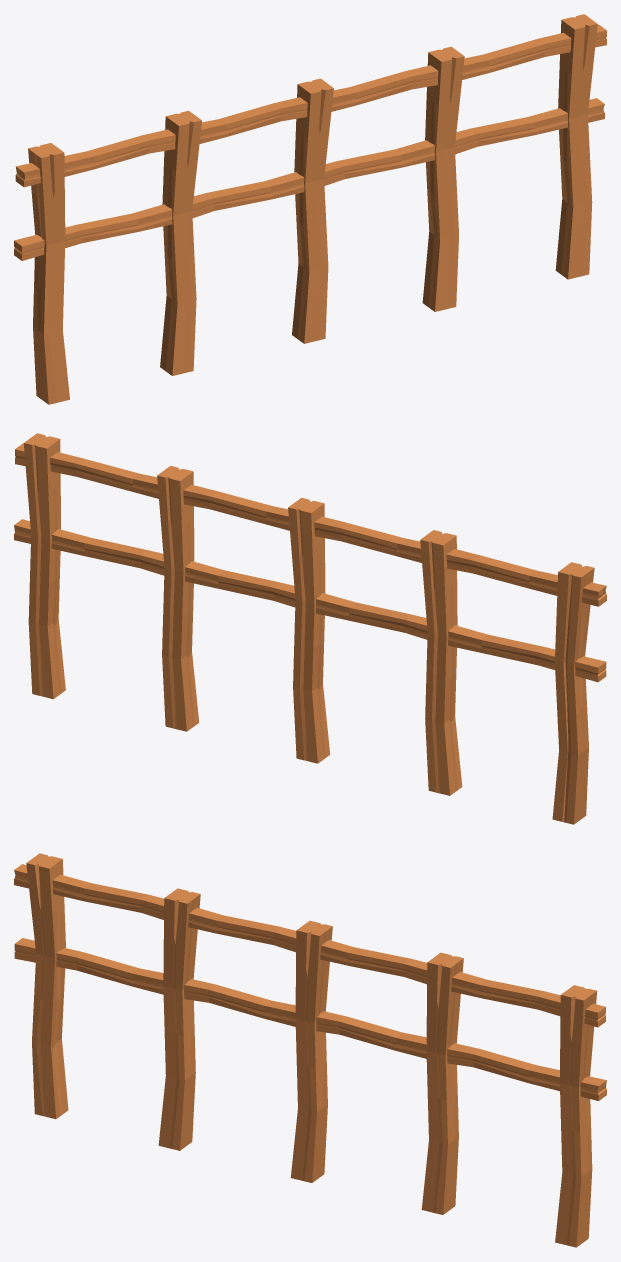
Rendered from Zaun_Vierer.fbx.
3 renders of one model, top to bottom at view 1: azimuth 30°, elevation 25°; view 2: azimuth 150°, elevation 25°; view 3: azimuth 330°, elevation 25°, orthographic.
Parts seen in each view (by area): view 1: Zaun.011; view 2: Zaun.011; view 3: Zaun.011.
Boxes of the visible parts, <box> form: Zaun.011: <box>14,14,606,404</box>; Zaun.011: <box>14,433,606,824</box>; Zaun.011: <box>14,853,606,1247</box>.
Size of the model in its own units: 5.41 by 2.22 by 0.2147.
